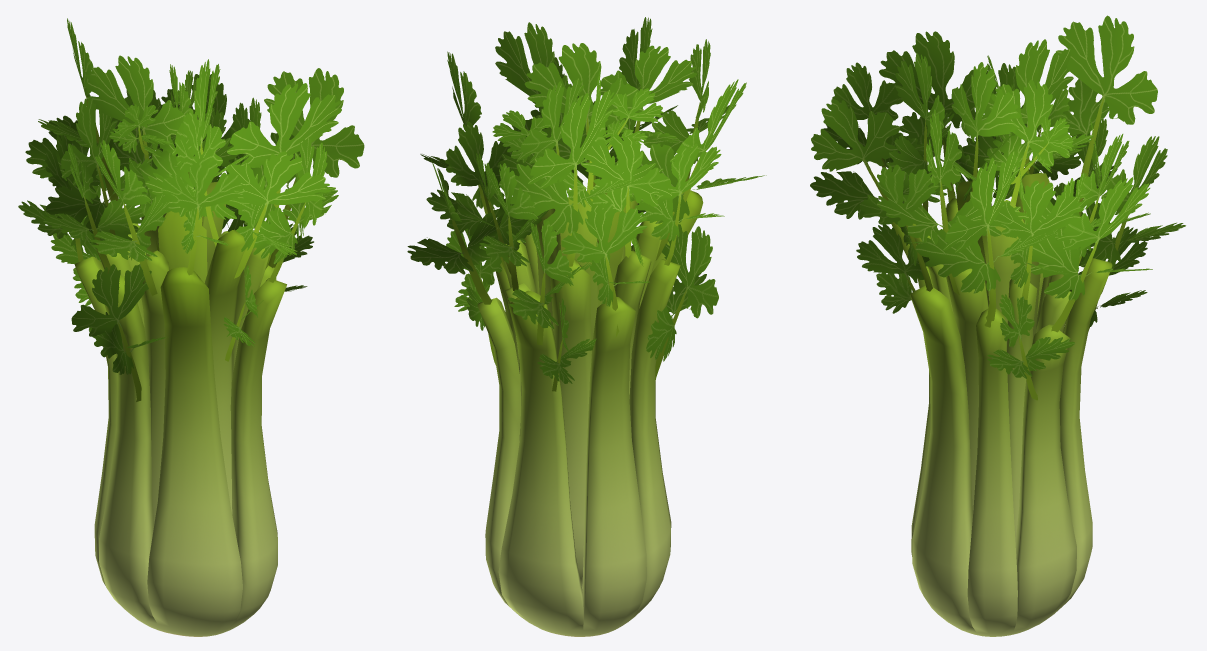
File: Celery.FBX
3 views of the same model, side by side, from view 1: azimuth 30°, elevation 25°; view 2: azimuth 150°, elevation 25°; view 3: azimuth 270°, elevation 25° (orthographic). The views are drawn at different scales.
Parts seen in each view (by area): view 1: Celery, Greens; view 2: Greens, Celery; view 3: Greens, Celery.
Part boxes in pixels (x1,y1,x2,y2): Celery: (74, 223, 286, 636); Greens: (18, 18, 364, 401); Greens: (407, 17, 766, 391); Celery: (477, 161, 703, 636); Greens: (810, 15, 1185, 400); Celery: (891, 198, 1112, 636).
Bounding box in the file's own units: 84.46 × 155 × 94.8.
Materials: 1 (1 with a texture image).
